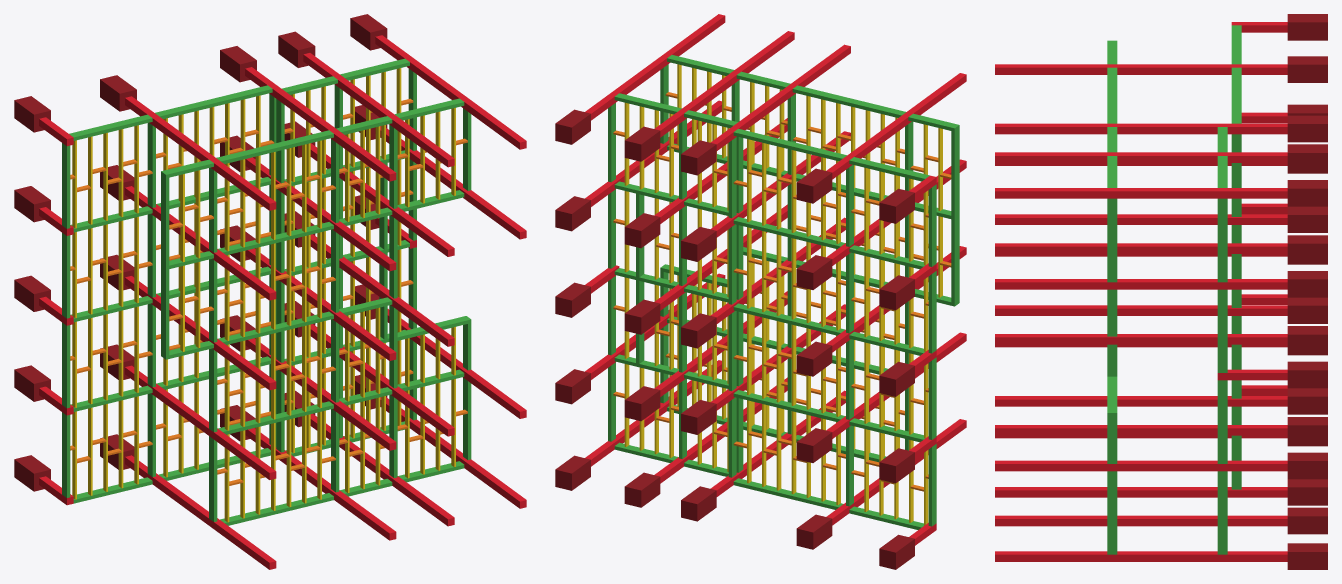
File: tinker.obj
3 renders of one model, left to right at view 1: azimuth 30°, elevation 25°; view 2: azimuth 150°, elevation 25°; view 3: azimuth 270°, elevation 25°, orthographic. The views are drawn at different scales.
Visible parts, largest first — view 1: obj_2, obj_1, obj_3, obj_4, obj_20, obj_15, obj_13, obj_6, obj_11, obj_21, obj_16, obj_7 (+56 smaller); view 2: obj_1, obj_4, obj_3, obj_2, obj_13, obj_9, obj_7, obj_21, obj_23, obj_16, obj_12, obj_20 (+68 smaller); view 3: obj_18, obj_2, obj_22, obj_4, obj_9, obj_23, obj_13, obj_1, obj_3, obj_8, obj_17, obj_16 (+46 smaller).
Boxes of the visible parts, bbox=[...] form: obj_2: bbox=[245, 67, 396, 181]; obj_1: bbox=[125, 96, 276, 210]; obj_3: bbox=[303, 53, 454, 167]; obj_4: bbox=[375, 35, 526, 149]; obj_20: bbox=[125, 455, 276, 569]; obj_15: bbox=[125, 365, 276, 479]; obj_13: bbox=[310, 234, 454, 346]; obj_6: bbox=[125, 186, 276, 300]; obj_11: bbox=[125, 276, 276, 390]; obj_21: bbox=[245, 428, 396, 540]; obj_16: bbox=[245, 338, 396, 450]; obj_7: bbox=[245, 157, 396, 271]; obj_1: bbox=[826, 73, 966, 179]; obj_4: bbox=[585, 14, 725, 120]; obj_3: bbox=[654, 31, 794, 137]; obj_2: bbox=[710, 44, 850, 150]; obj_13: bbox=[654, 204, 787, 310]; obj_9: bbox=[585, 100, 721, 206]; obj_7: bbox=[710, 131, 850, 237]; obj_21: bbox=[710, 390, 845, 496]; obj_23: bbox=[585, 360, 721, 466]; obj_16: bbox=[710, 304, 845, 410]; obj_12: bbox=[710, 217, 845, 323]; obj_20: bbox=[826, 419, 966, 525]; obj_18: bbox=[995, 460, 1287, 471]; obj_2: bbox=[995, 123, 1287, 134]; obj_22: bbox=[995, 515, 1287, 526]; obj_4: bbox=[995, 188, 1287, 198]; obj_9: bbox=[995, 279, 1287, 289]; obj_23: bbox=[995, 551, 1287, 561]; obj_13: bbox=[995, 334, 1287, 344]; obj_1: bbox=[995, 64, 1287, 74]; obj_3: bbox=[995, 152, 1287, 162]; obj_8: bbox=[995, 243, 1287, 253]; obj_17: bbox=[995, 425, 1287, 435]; obj_16: bbox=[995, 396, 1287, 406].
Size of the model in its own units: 103 by 105 by 83.
